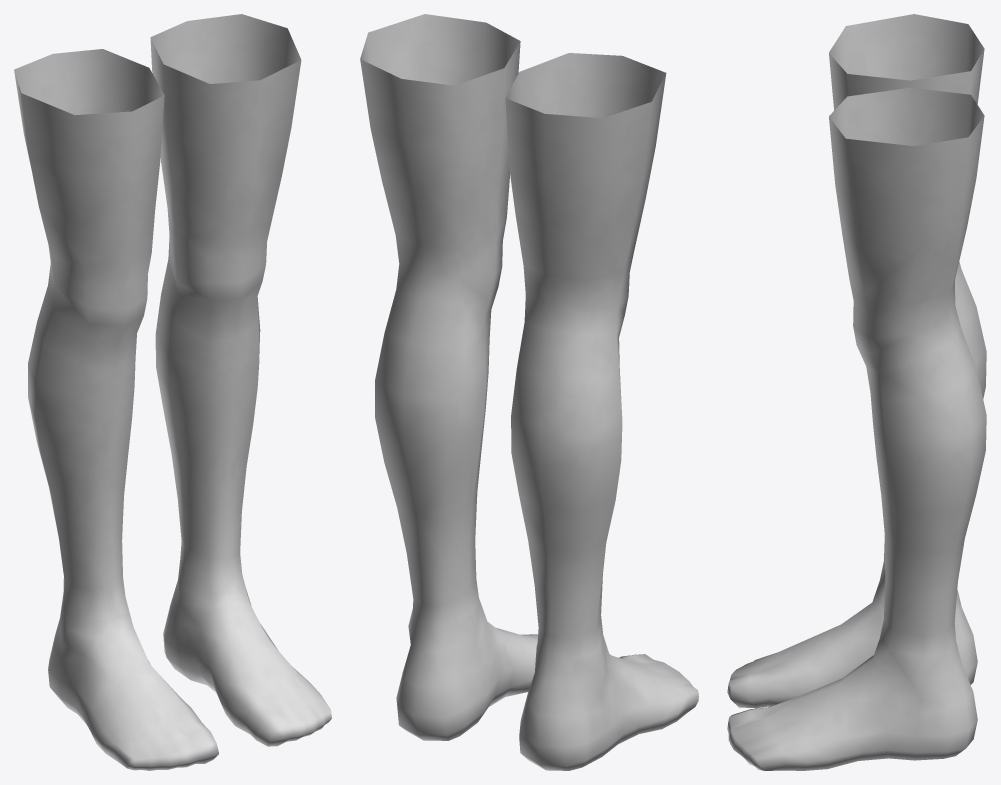
The model's file is p0_lgw0004_00_lgw00.gltf.
3 views of the same model, side by side, from view 1: azimuth 30°, elevation 25°; view 2: azimuth 150°, elevation 25°; view 3: azimuth 270°, elevation 25° (orthographic). The views are drawn at different scales.
Parts seen in each view (by area): view 1: lgw00_legs01_mesh_shape:legs, lgw00_legs02_mesh_shape:legs, lgw00_legs00_mesh_shape:legs; view 2: lgw00_legs01_mesh_shape:legs, lgw00_legs02_mesh_shape:legs, lgw00_legs00_mesh_shape:legs; view 3: lgw00_legs01_mesh_shape:legs, lgw00_legs00_mesh_shape:legs, lgw00_legs02_mesh_shape:legs.
Boxes of the visible parts, <box> form: lgw00_legs01_mesh_shape:legs: <box>28,156,281,549</box>; lgw00_legs02_mesh_shape:legs: <box>14,14,301,224</box>; lgw00_legs00_mesh_shape:legs: <box>48,500,331,770</box>; lgw00_legs01_mesh_shape:legs: <box>375,171,645,594</box>; lgw00_legs02_mesh_shape:legs: <box>360,14,666,231</box>; lgw00_legs00_mesh_shape:legs: <box>396,541,698,770</box>; lgw00_legs01_mesh_shape:legs: <box>842,228,986,596</box>; lgw00_legs00_mesh_shape:legs: <box>727,536,977,770</box>; lgw00_legs02_mesh_shape:legs: <box>829,14,984,256</box>.
Size of what is drawn, in the model's own units: 0.2758 by 0.6251 by 0.2287.
1 material, 1 textured.
